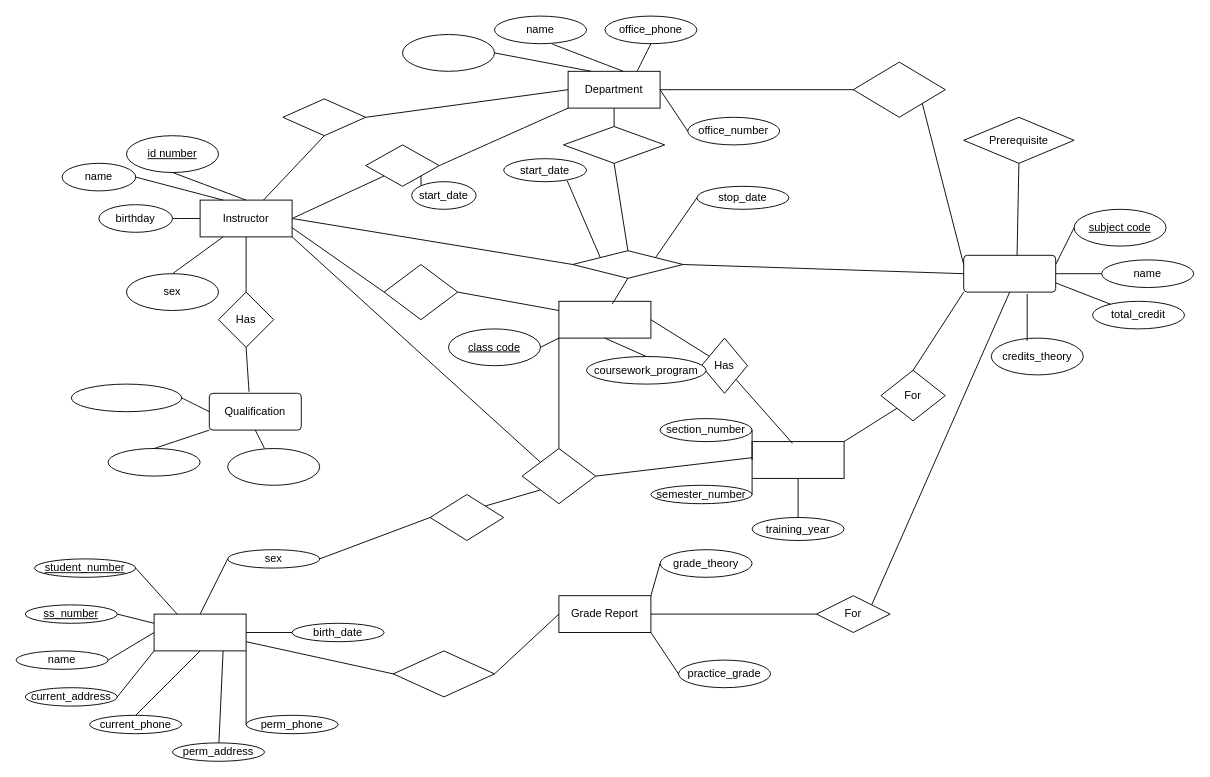
This 1210x777 diagram has some shape labels left out. Here are the shapes that lost their labels. From the top down, the centre of each, then its label:
At (448,52): "dept_code".
At (898,89): "Distributes".
At (324,117): "Works For".
At (614,144): "Arranges".
At (402,165): "Manages".
At (627,264): "Teaches".
At (1009,273): "Subject".
At (420,292): "Supervises".
At (604,319): "Class".
At (126,397): "specialized_training".
At (153,462): "training_institue".
At (273,466): "year-graduation".
At (558,476): "Taught By".
At (797,459): "Section".
At (466,517): "Belongs To".
At (199,632): "Student".
At (443,673): "Has Joined".
